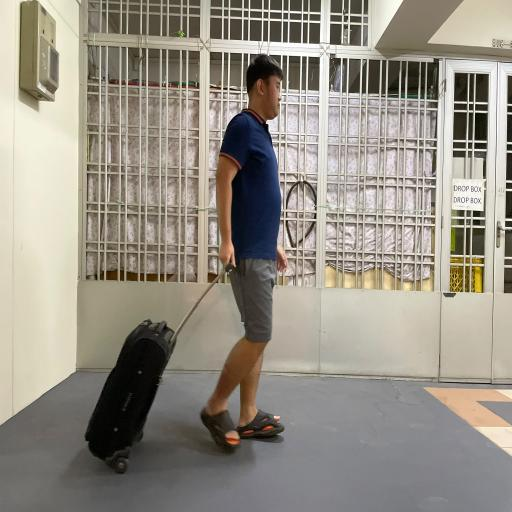person_right: (85, 52, 288, 486)
